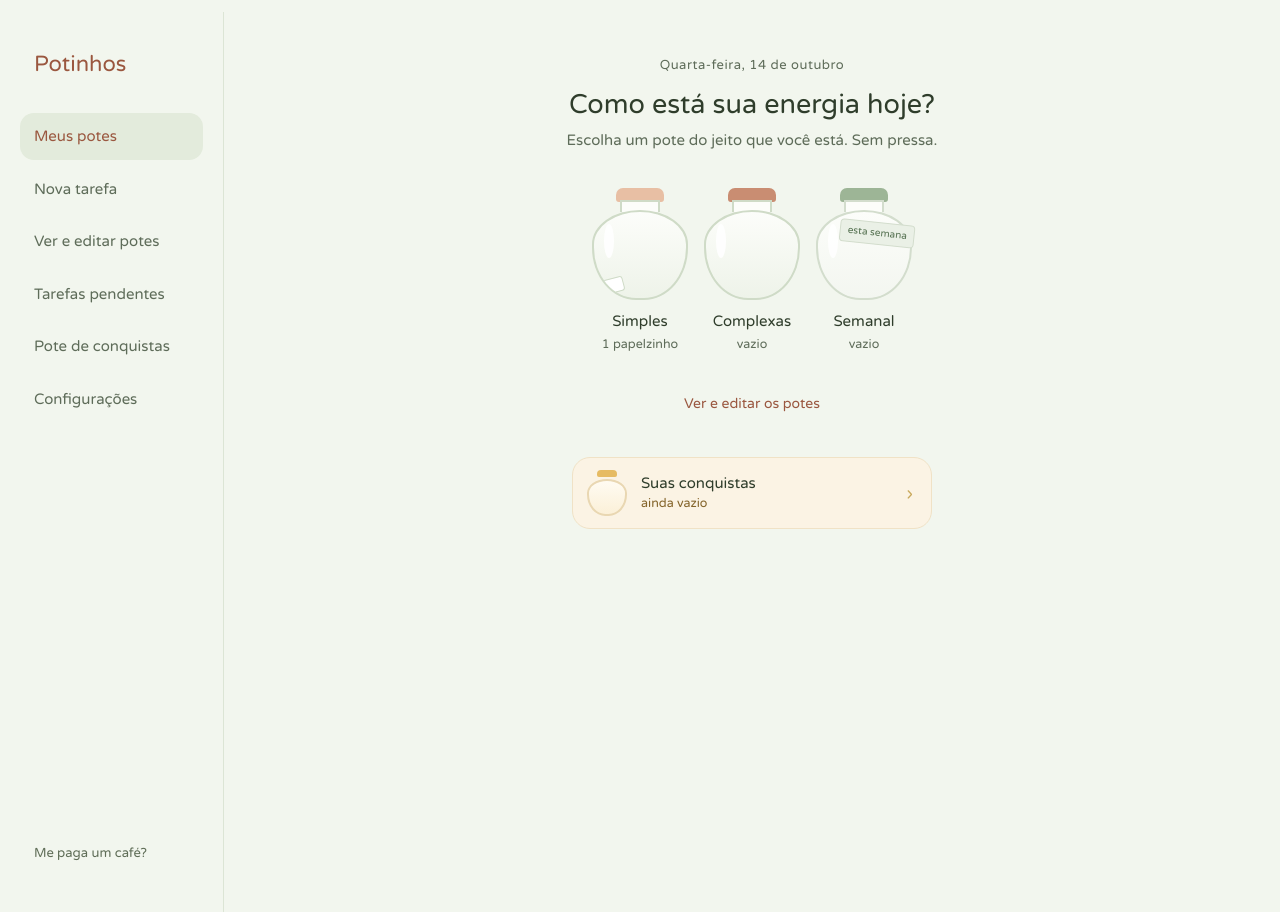
Return › moves the slip to another jar
Expected: the heading "Como está sua energia hoje?" is shown, [569,88,935,120]
Click the button with aria-label "Pote ".
click(640, 271)  # box [592,188,688,355]
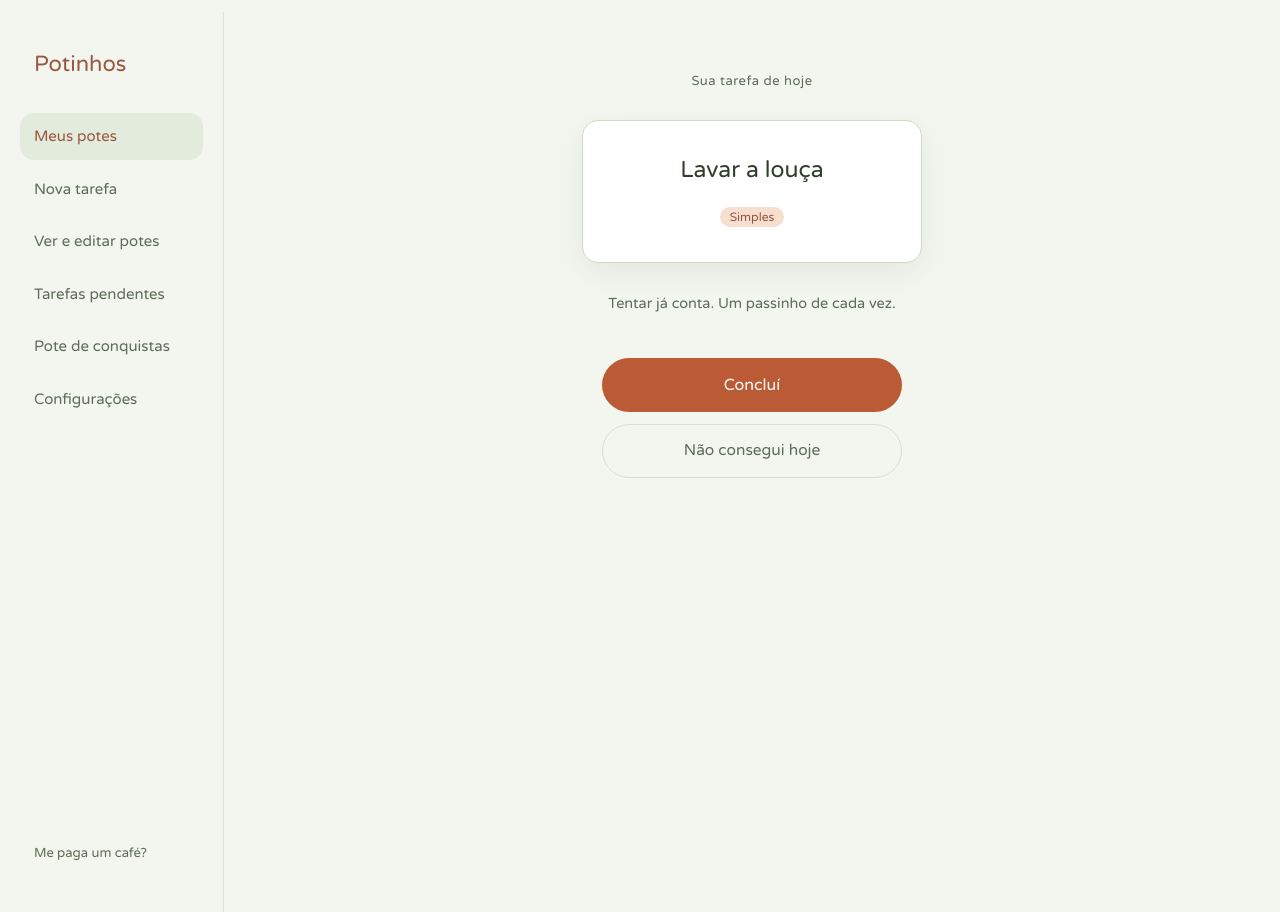
Result: the heading "Sua tarefa de hoje" is shown at [691,73,812,89]
Click the button "Não consegui hoje".
click(752, 451)  # box [602,424,902,478]
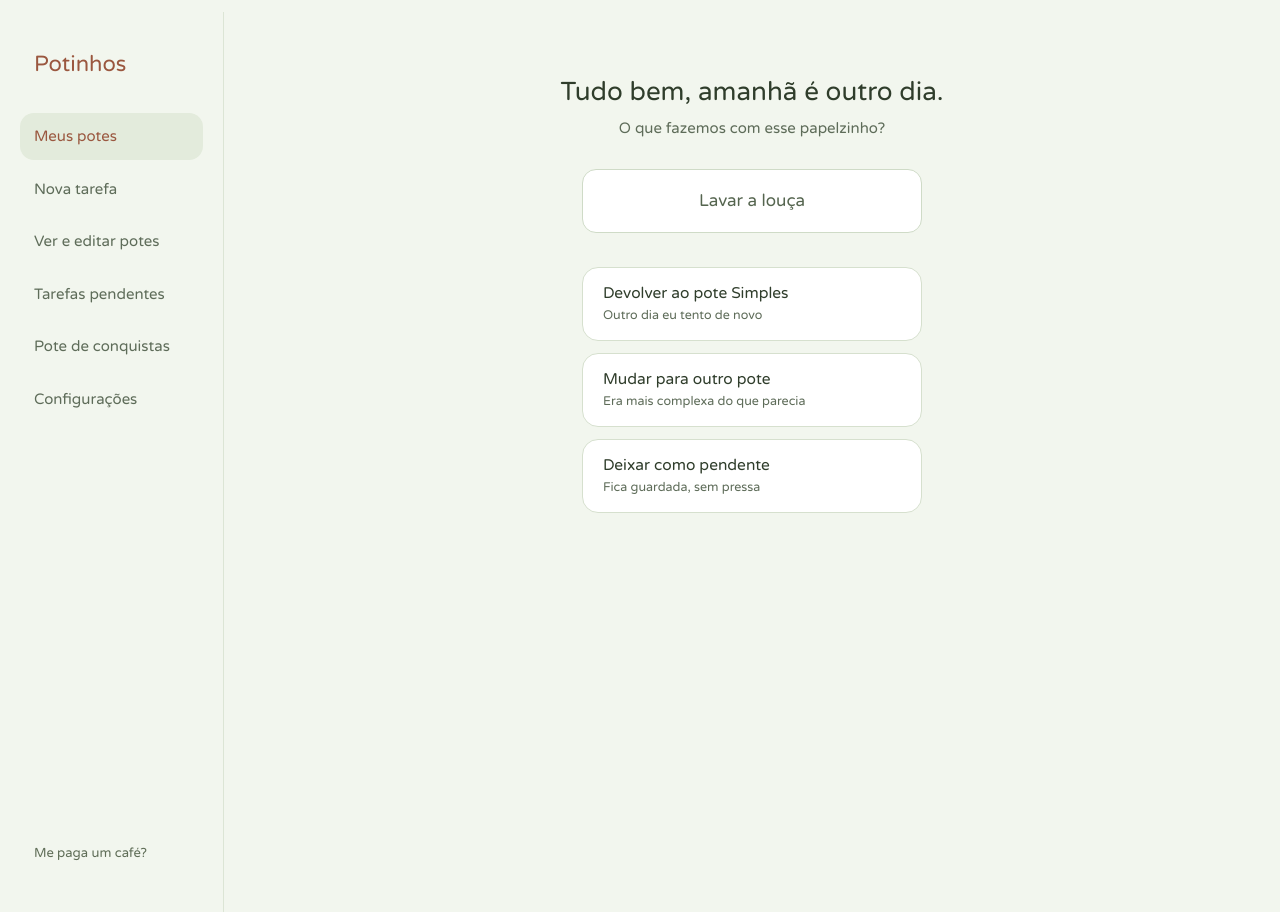
Click the button "Mudar para outro pote Era mais complexa do que parecia".
click(752, 390)  # box [582,352,922,426]
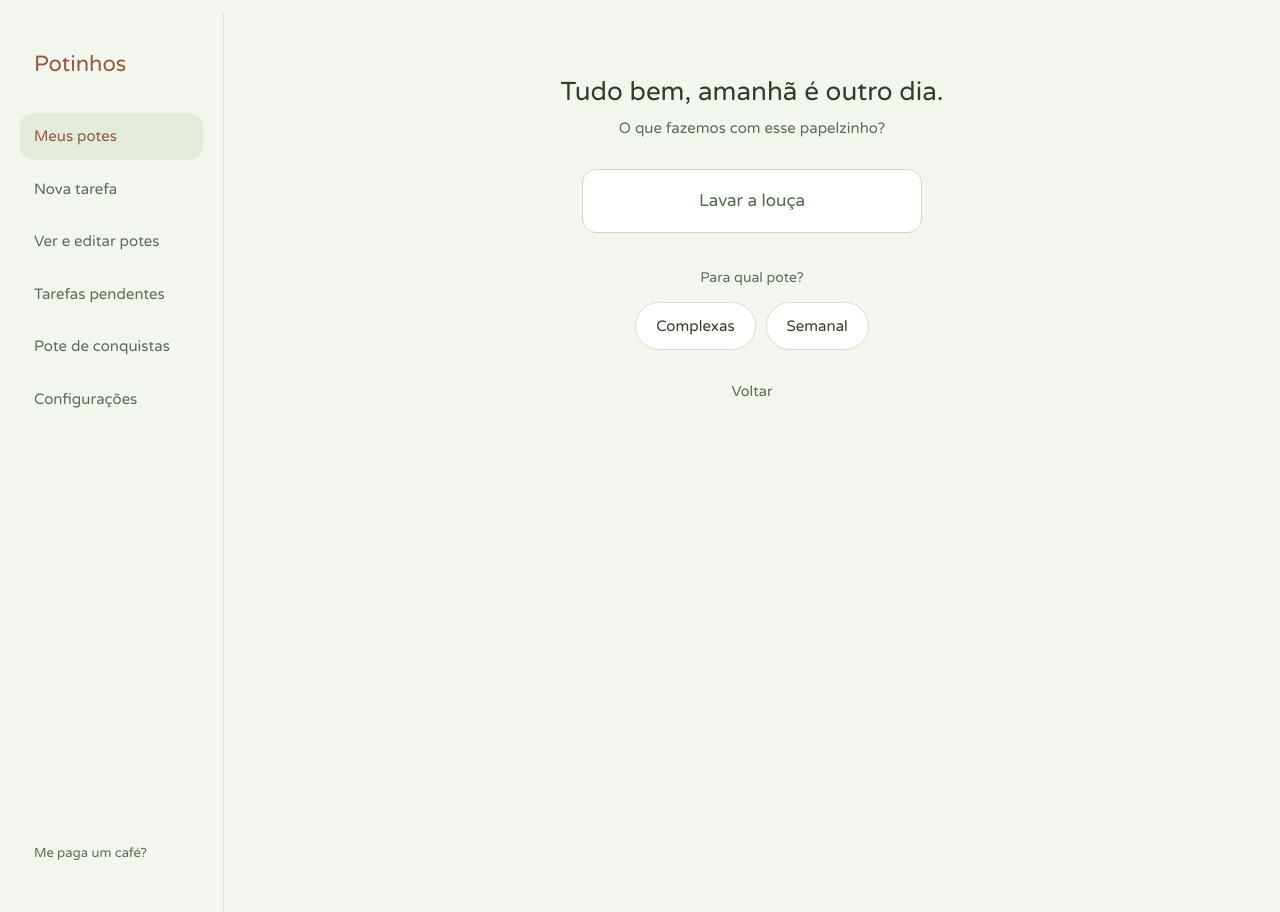
Click the button "Complexas".
click(695, 326)  # box [635,302,756,350]
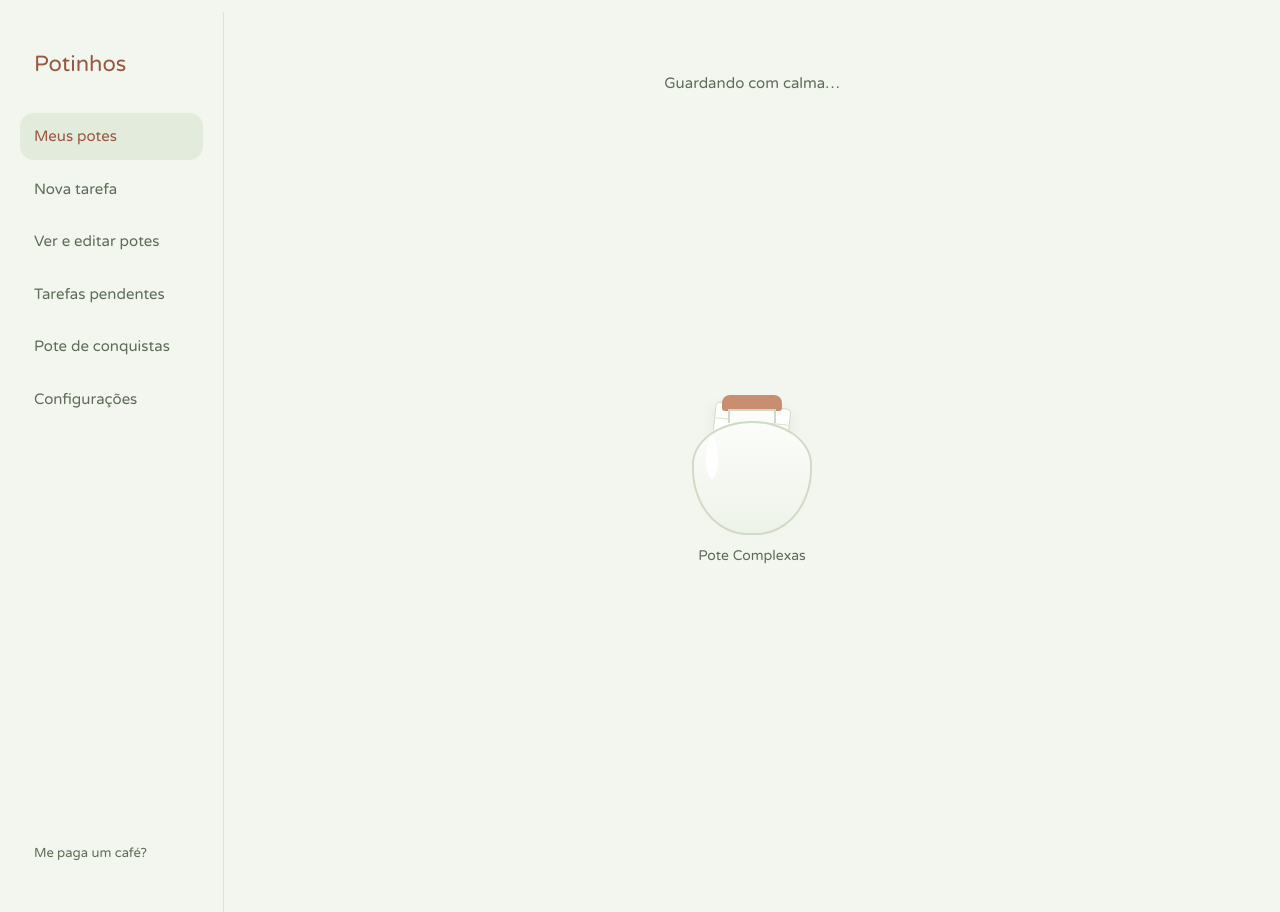
Result: the text "Guardando com calma…" is shown at [664,74,840,92]
Result: the text "Pote Complexas" is shown at [692,544,812,566]
